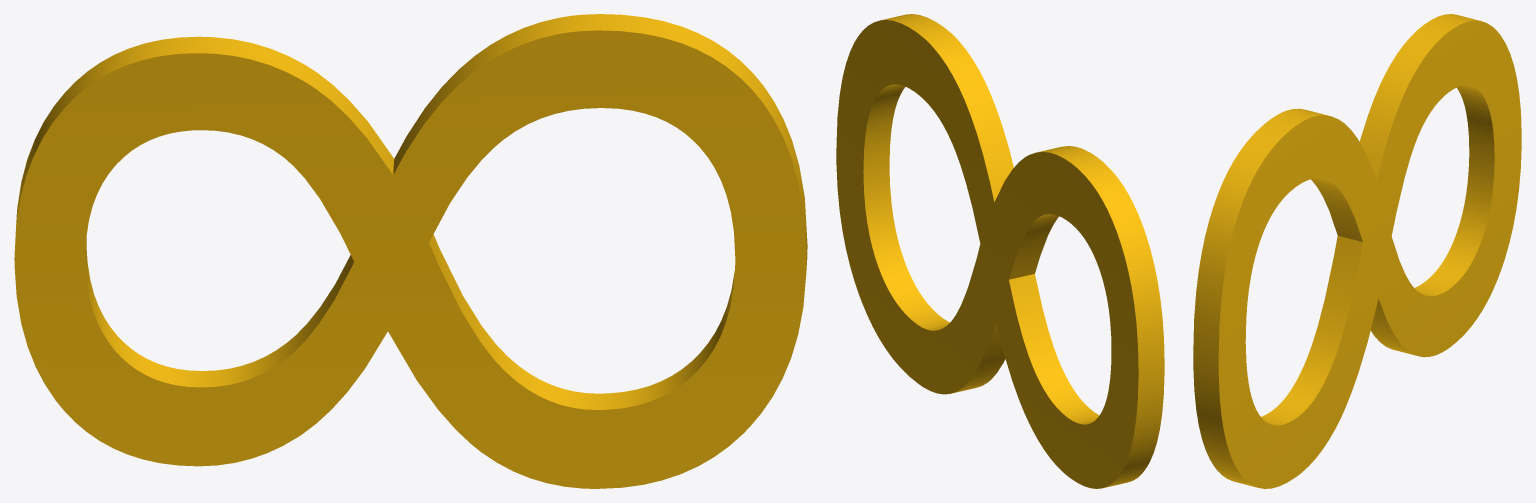
File: Number_8.gltf
The picture shows the model from 3 angles, left to right: view 1: azimuth 30°, elevation 25°; view 2: azimuth 150°, elevation 25°; view 3: azimuth 270°, elevation 25°; orthographic projection. The views are drawn at different scales.
Parts seen in each view (by area): view 1: Sub_7_Cell_1_2_Number_8; view 2: Sub_7_Cell_1_2_Number_8; view 3: Sub_7_Cell_1_2_Number_8.
Boxes of the visible parts, x1,y1,x2,y2 form: Sub_7_Cell_1_2_Number_8: [14, 14, 807, 488]; Sub_7_Cell_1_2_Number_8: [836, 14, 1164, 488]; Sub_7_Cell_1_2_Number_8: [1193, 14, 1521, 488].
Bounding box in the file's own units: 0.0231 × 0.0166 × 0.014.
